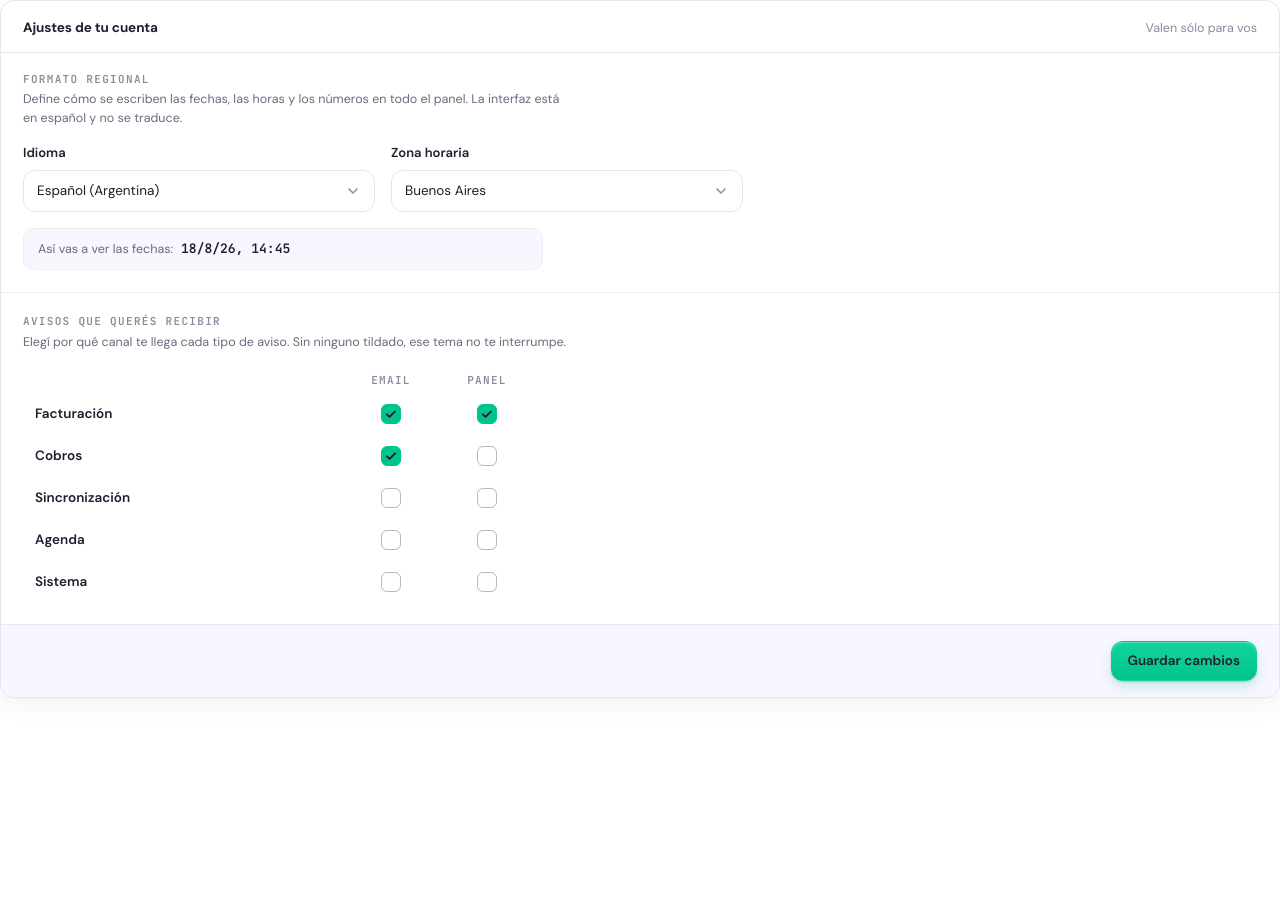
FormularioDePreferencias › un fallo al guardar se muestra y no se confirma nada
Click the button "Guardar cambios". click: (1184,661)
box: [1110,641,1257,681]
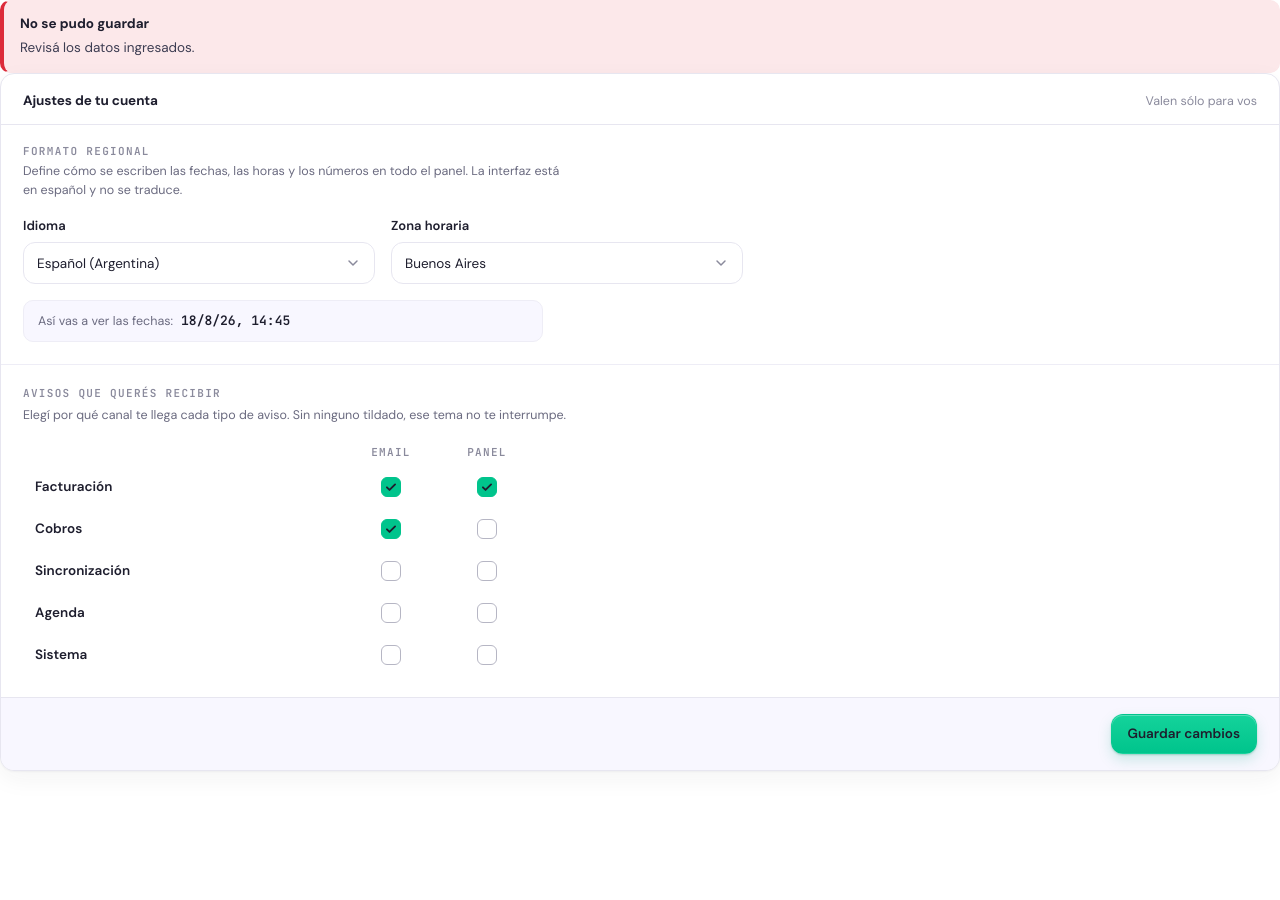
Check: the text "Revisá los datos ingresados." is shown, box [20,39,194,56]
